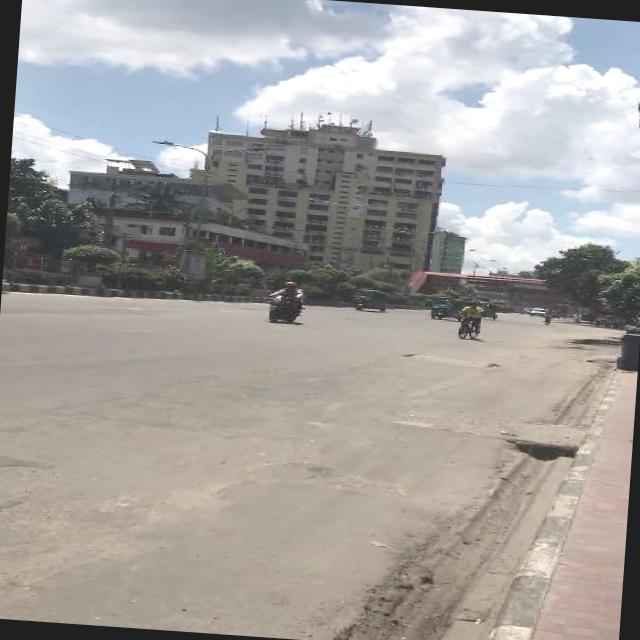motorcycle: (263, 276, 304, 325), (348, 286, 387, 312), (427, 294, 462, 320), (473, 300, 496, 318)
truck: (528, 306, 544, 316)
